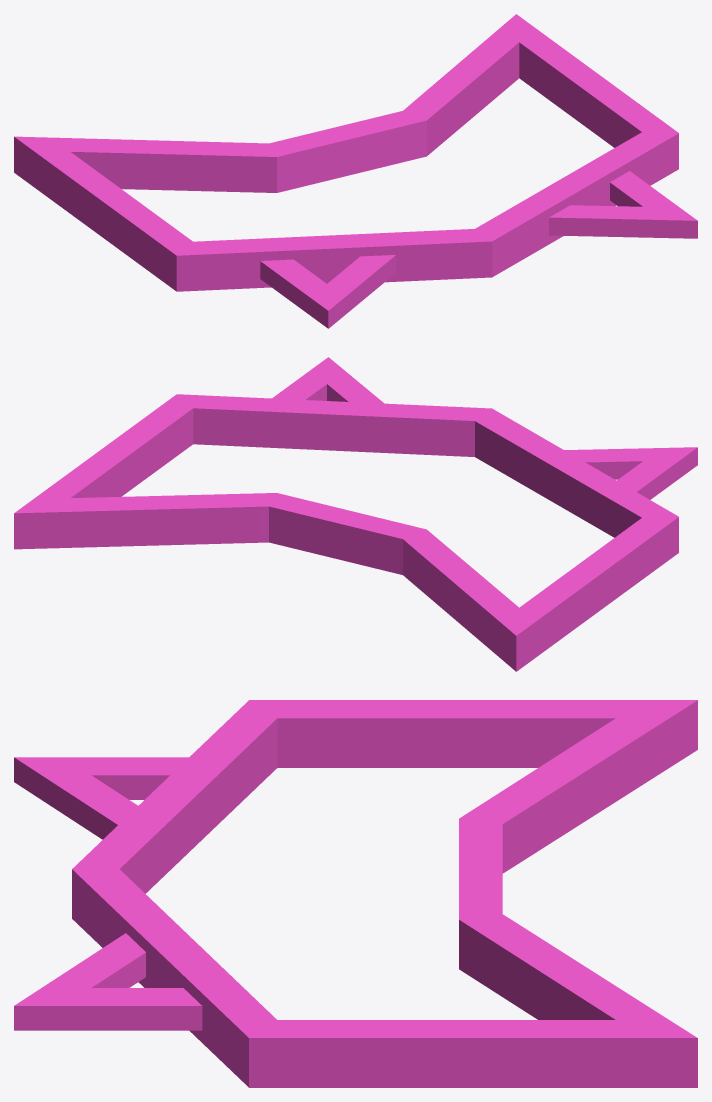
The model's file is neoney.glb.
The picture shows the model from 3 angles, top to bottom: view 1: azimuth 30°, elevation 25°; view 2: azimuth 150°, elevation 25°; view 3: azimuth 270°, elevation 25°; orthographic projection. The views are drawn at different scales.
Parts seen in each view (by area): view 1: Cube.003; view 2: Cube.003; view 3: Cube.003.
Boxes of the visible parts, <box> form: Cube.003: <box>14,14,697,328</box>; Cube.003: <box>14,357,697,671</box>; Cube.003: <box>14,700,697,1087</box>.
Size of the model in its own units: 2.98 by 0.2045 by 2.55.
